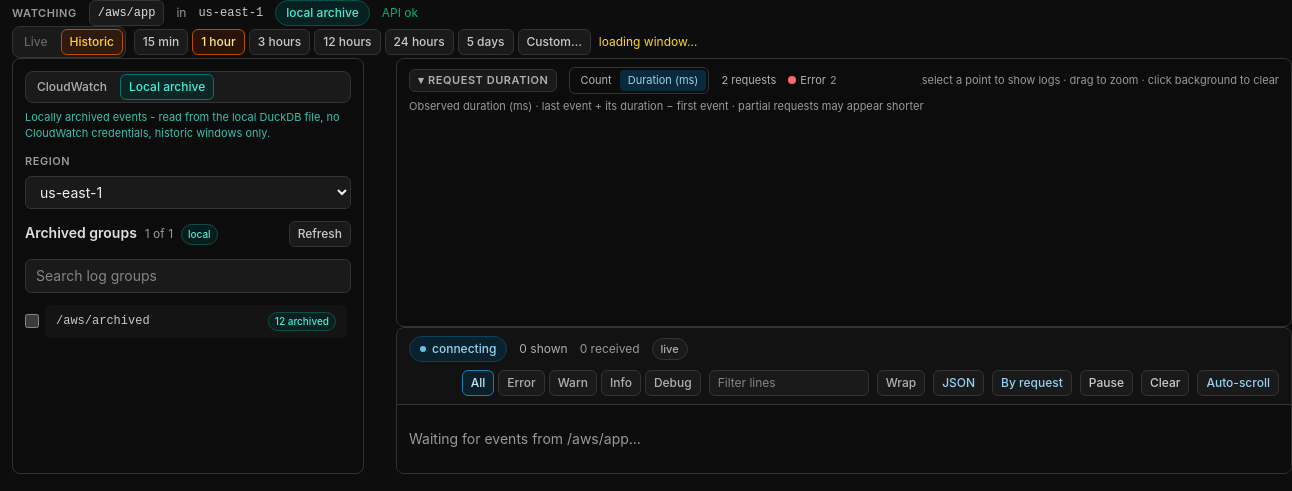
Test: page: the event chart › toggles duration and count without changing the log grouping preference
Expected: the text with test id "duration-note" shows "last event", [409, 98, 924, 112]
Click the button with test id "chart-metric-count": x=596, y=80 [572, 70, 620, 90]
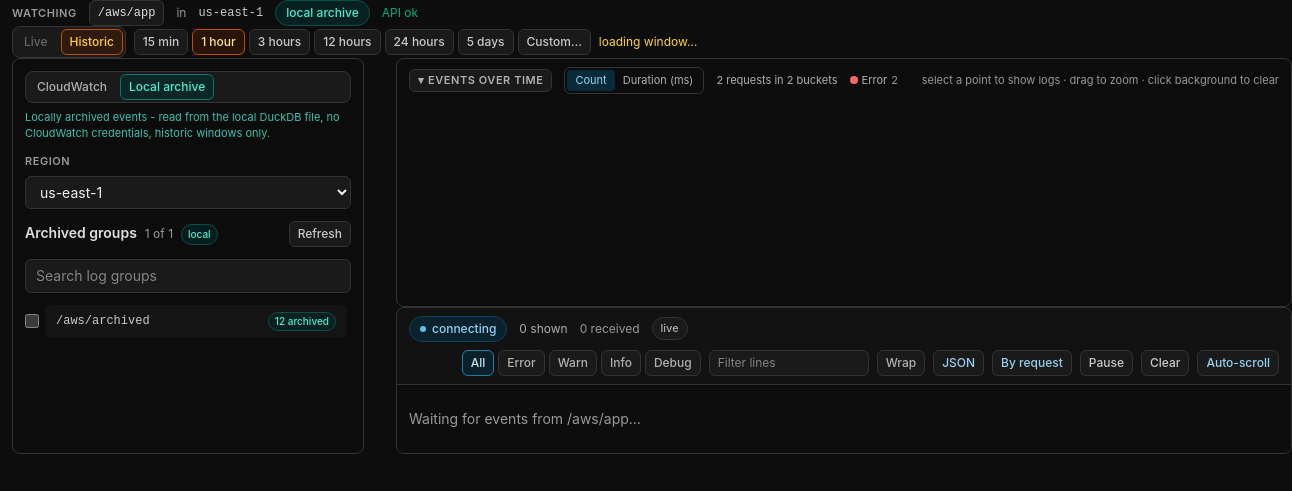
Result: the text with test id "duration-note" is gone
